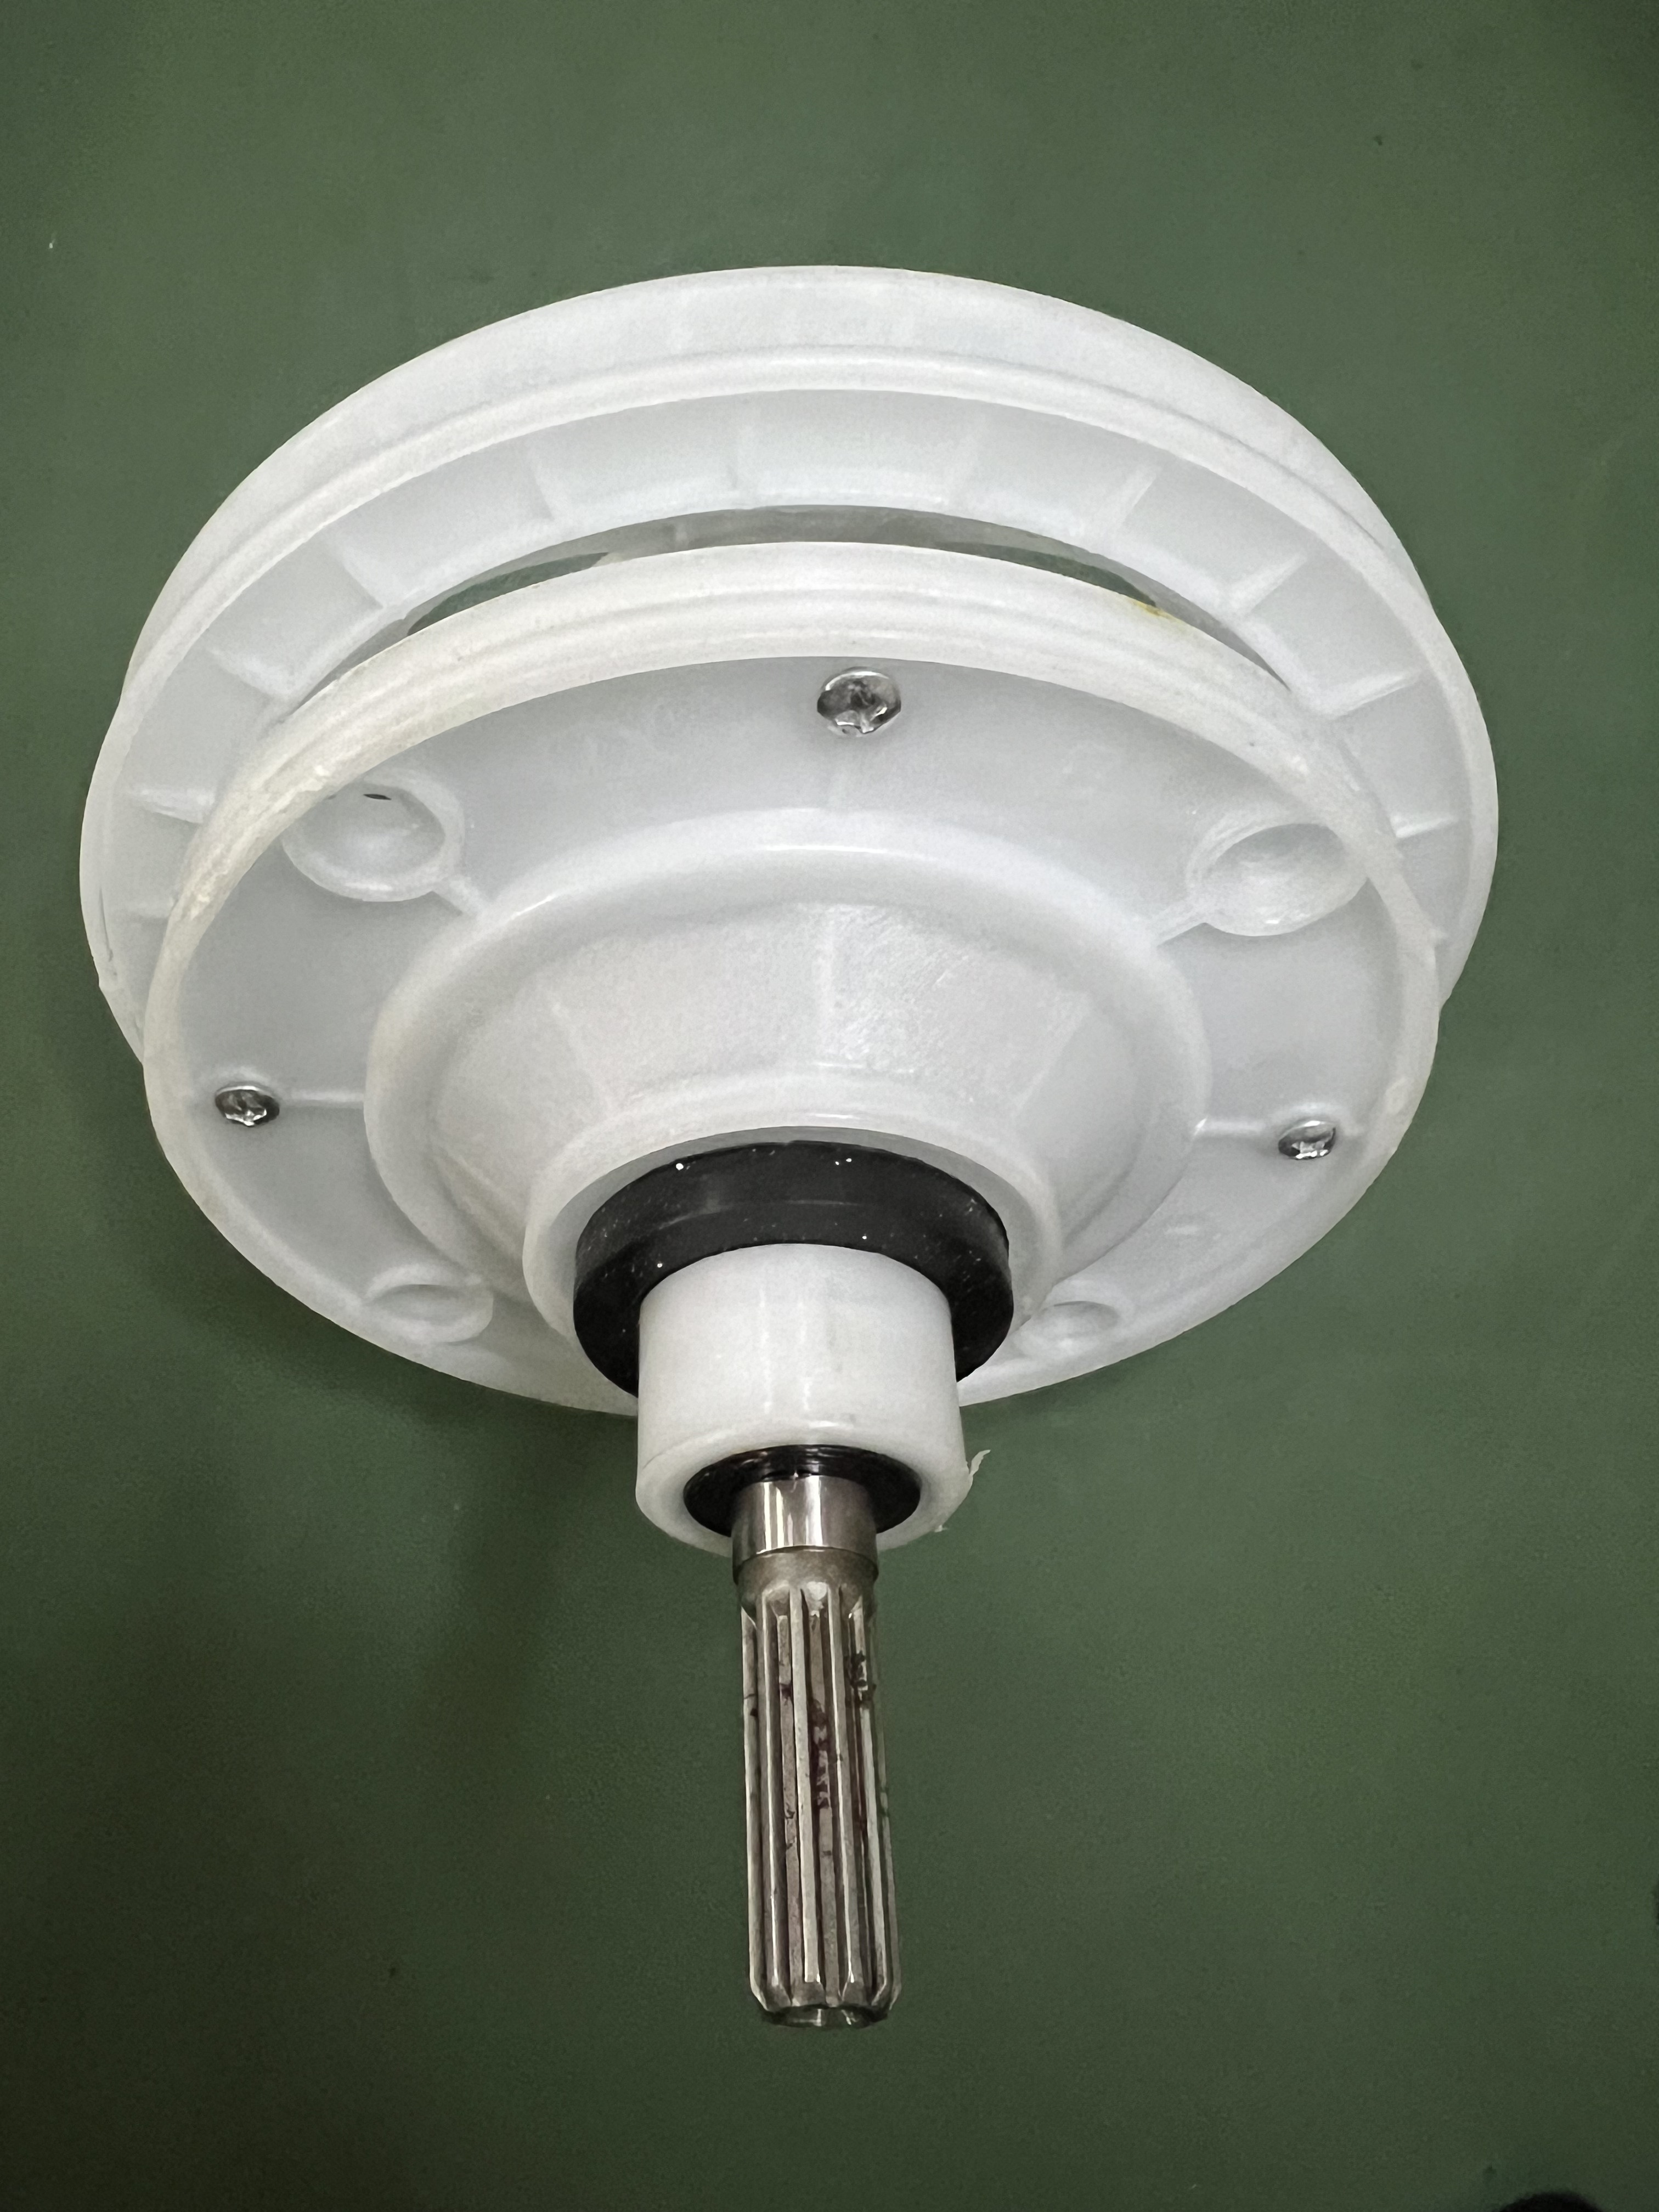gear_box_circle: (75, 270, 1483, 2017)
